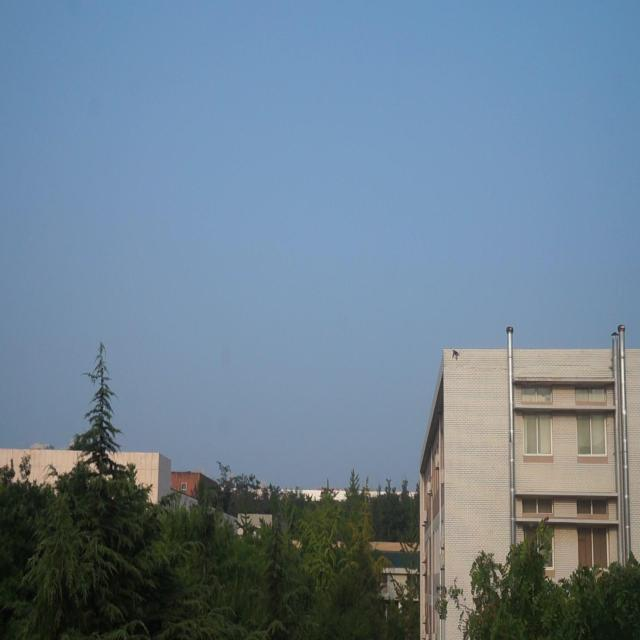drone: (450, 347, 459, 361)
